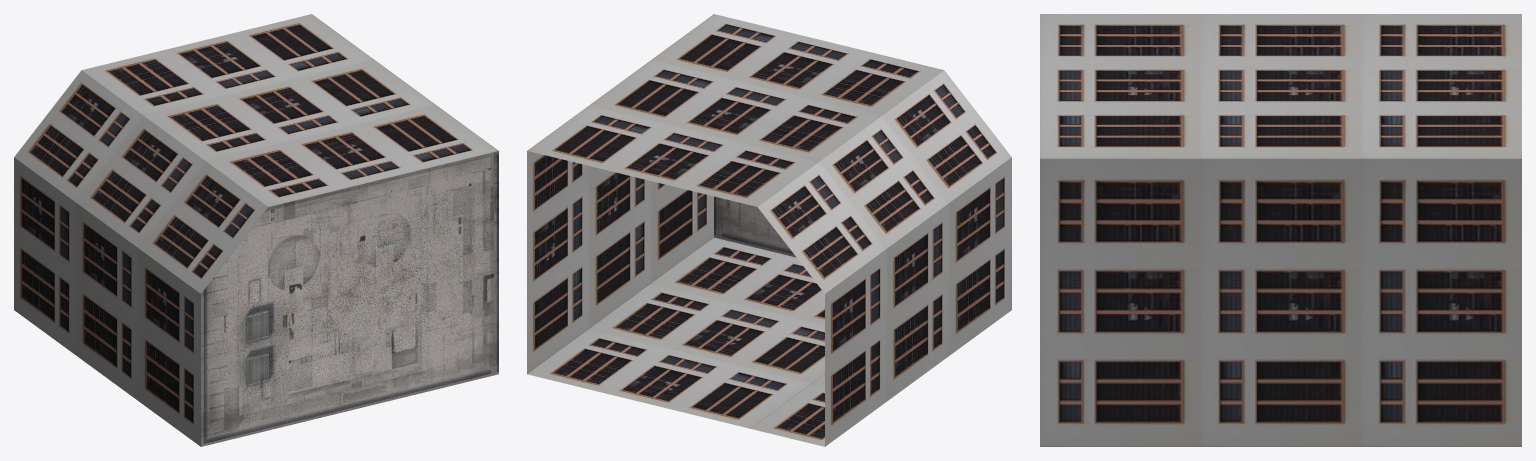
The model's file is building-9.obj.
3 views of the same model, side by side, from view 1: azimuth 30°, elevation 25°; view 2: azimuth 150°, elevation 25°; view 3: azimuth 270°, elevation 25° (orthographic). The views are drawn at different scales.
Bounding box in the file's own units: 6.62 × 4.75 × 7.2.
